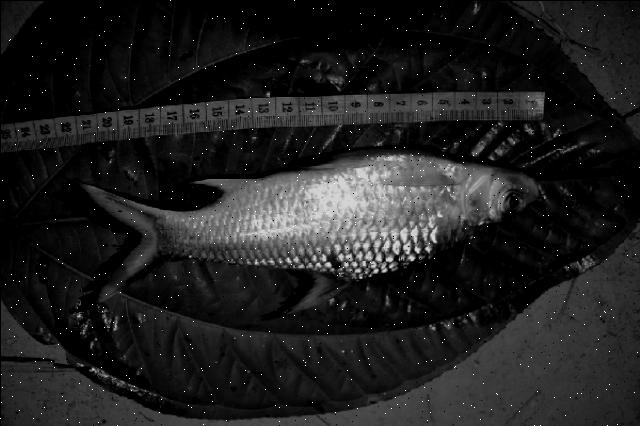Mulut: (501, 158, 559, 226)
Sirip Anal: (174, 158, 266, 210)
Sirip Dada: (373, 162, 473, 198)
Sirip Ekor: (38, 164, 184, 317)
Sirip Perut: (281, 141, 377, 182)
Sirip Punggung: (243, 253, 369, 331)
